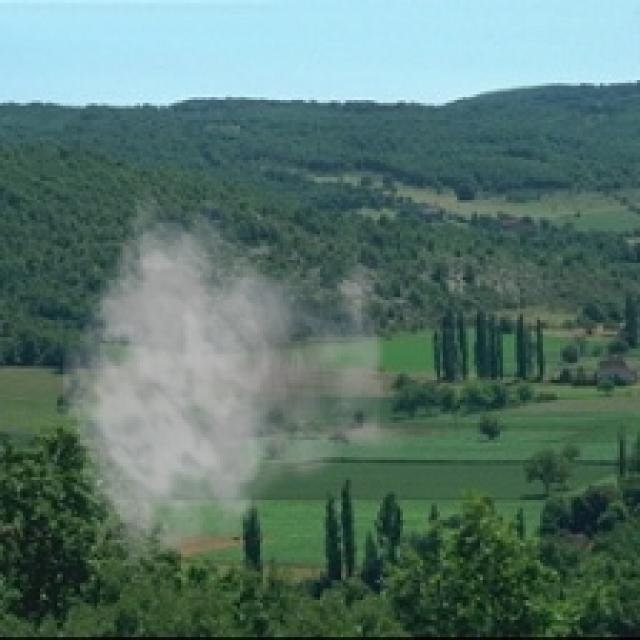smoke: (60, 186, 417, 571)
